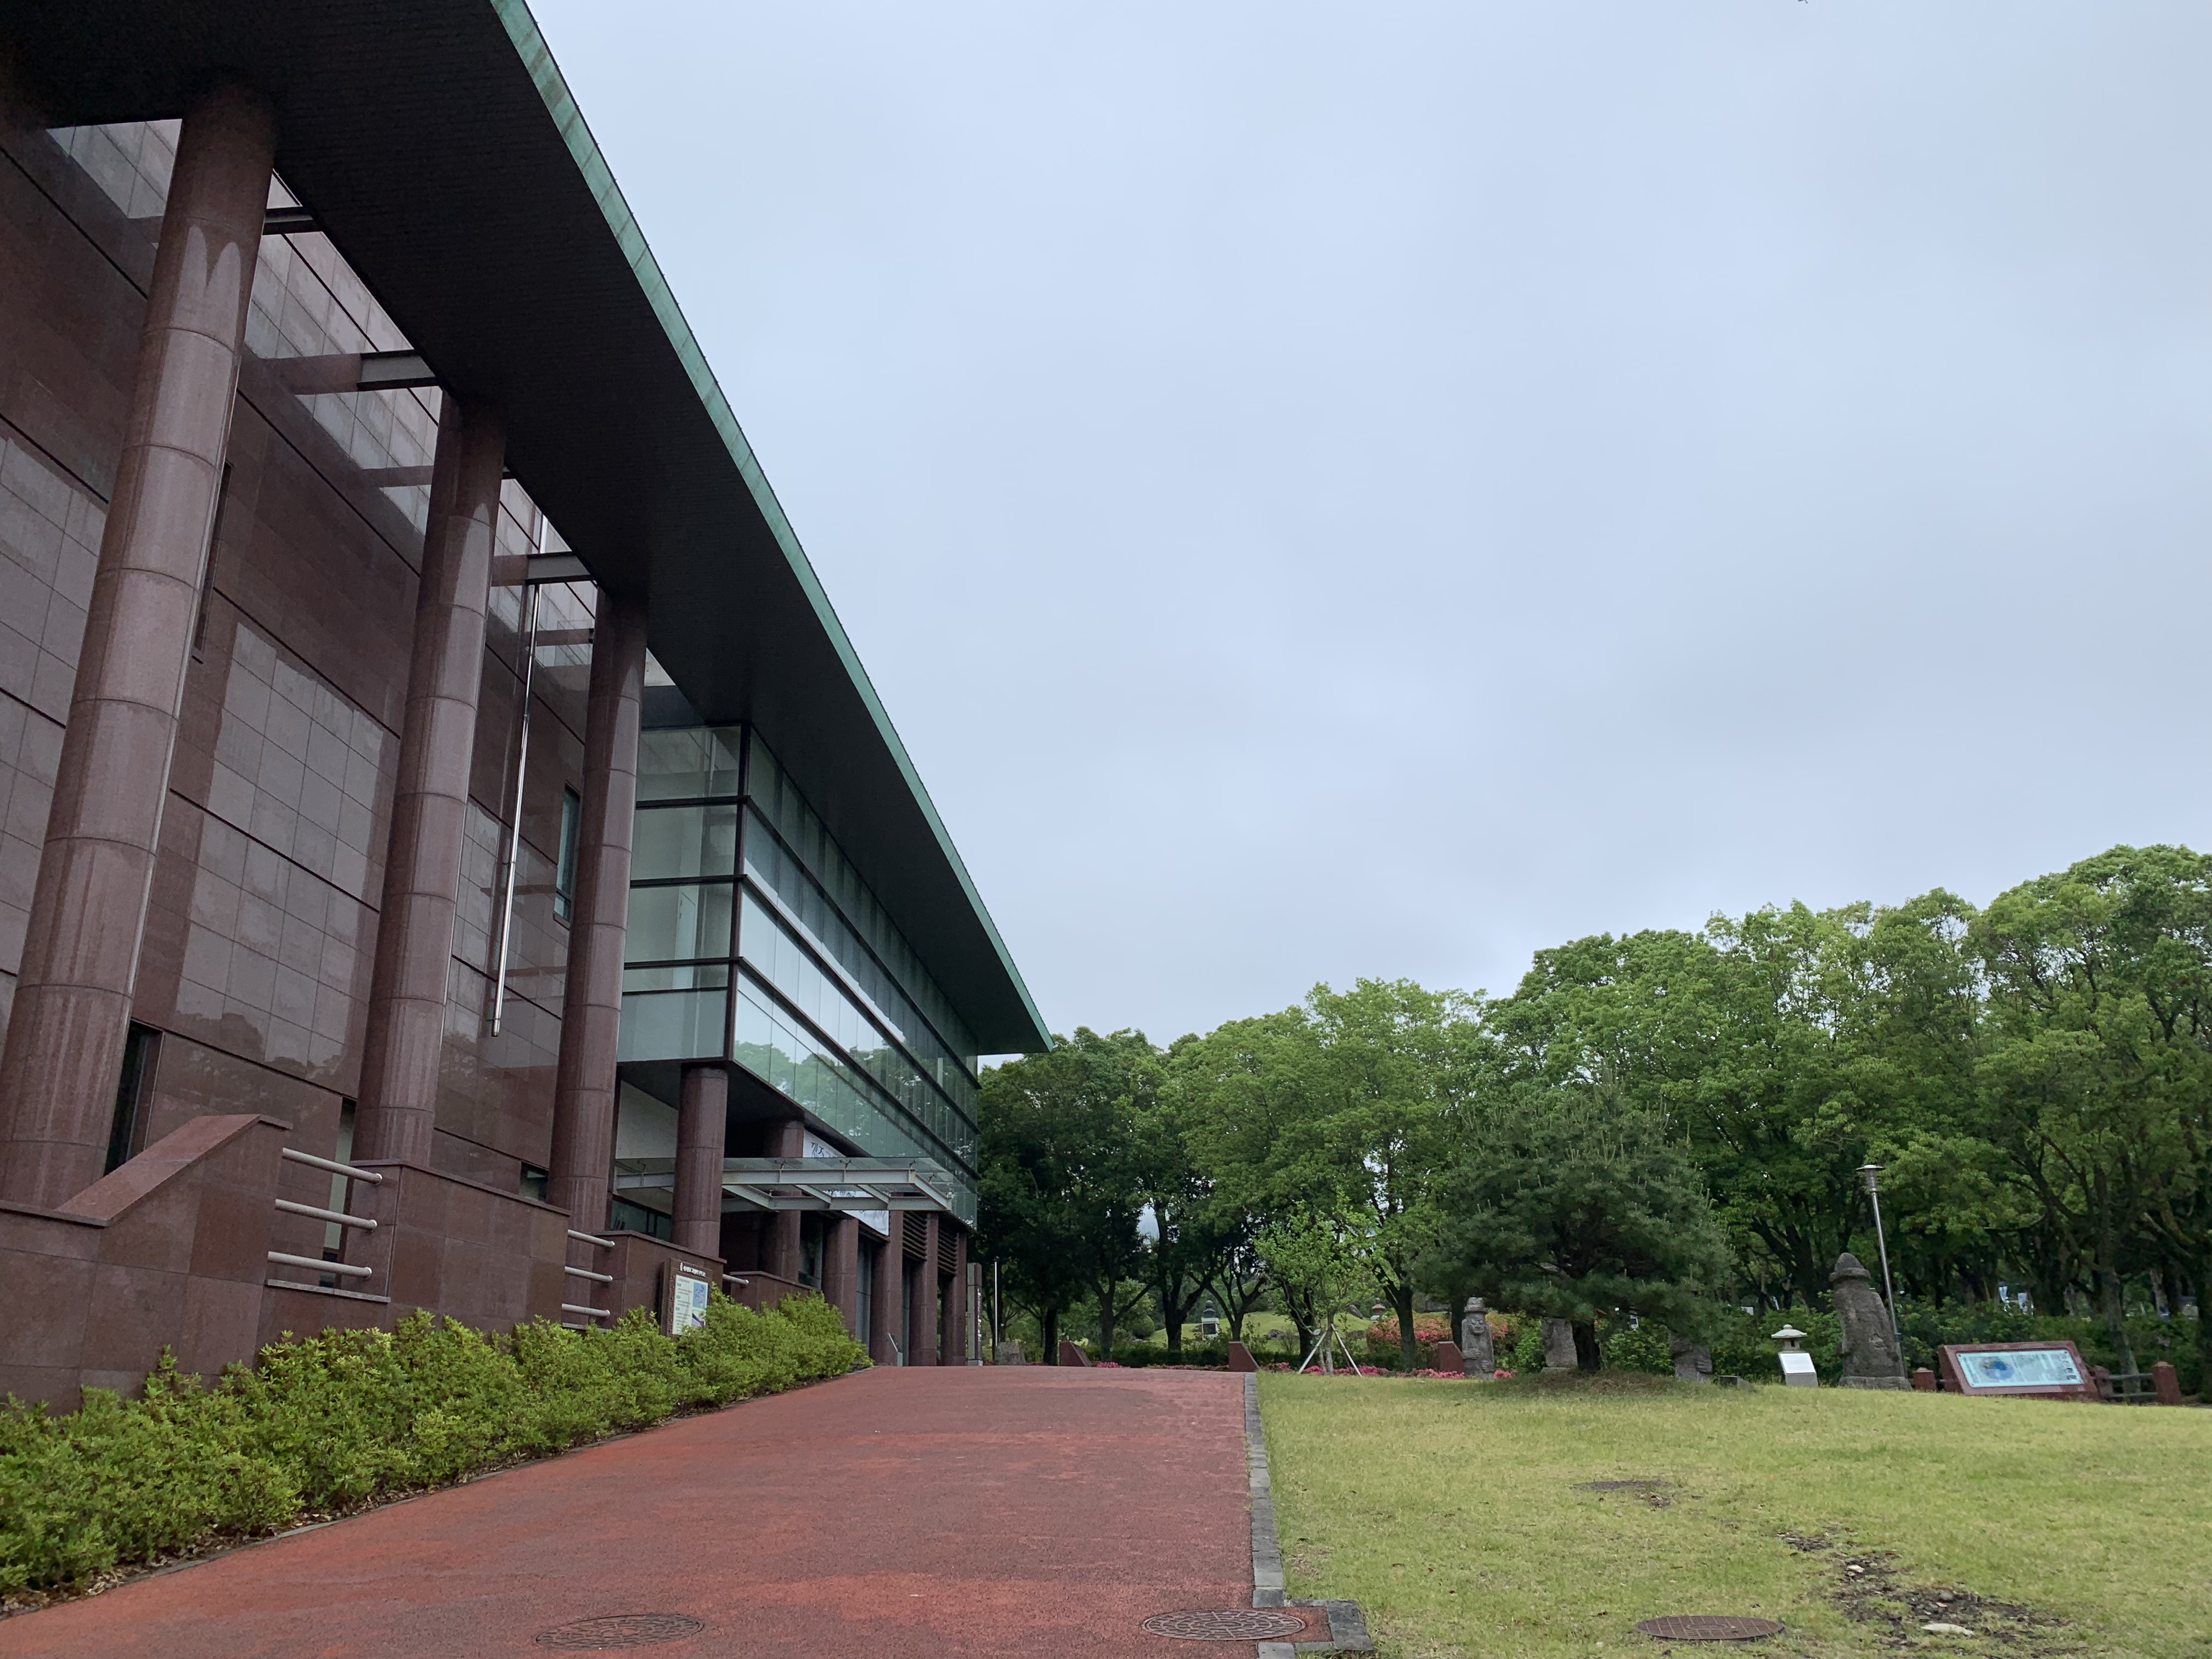Museum: (91, 40, 1055, 1513)
